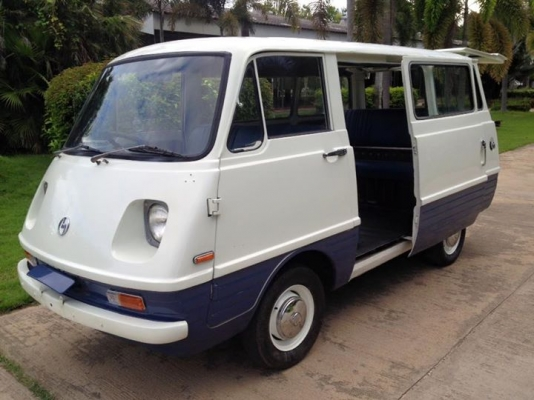van: (17, 35, 500, 371)
